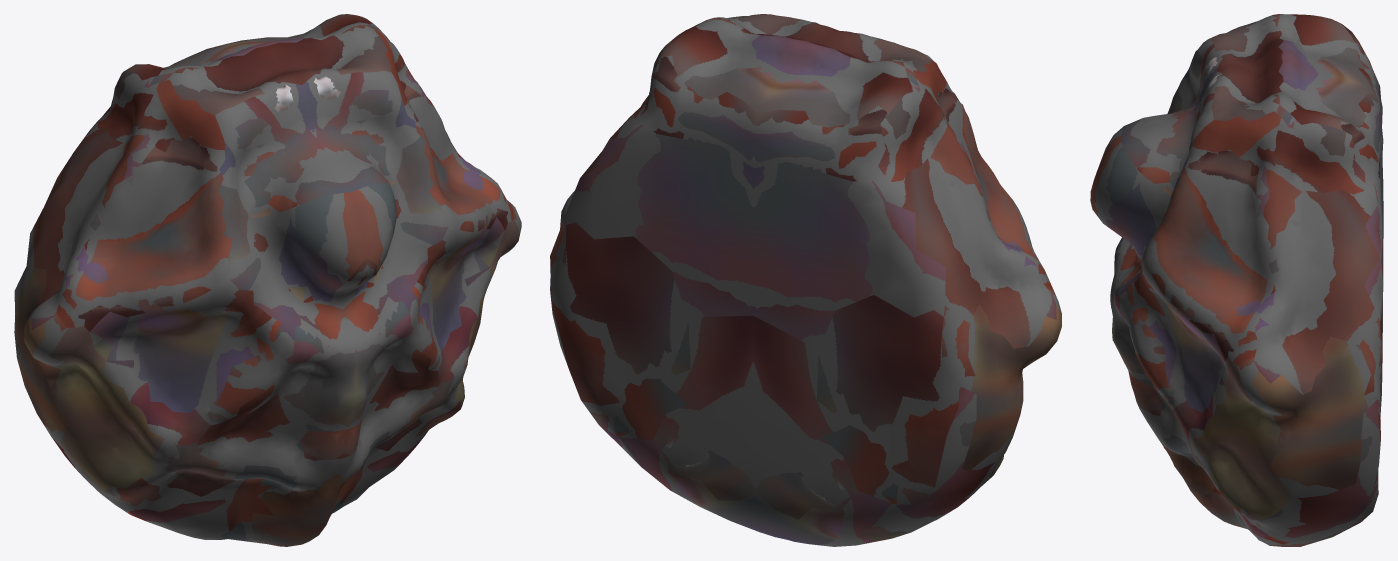
File: wallMine.obj
3 renders of one model, left to right at view 1: azimuth 30°, elevation 25°; view 2: azimuth 150°, elevation 25°; view 3: azimuth 270°, elevation 25°, orthographic. The views are drawn at different scales.
Parts seen in each view (by area): view 1: wallMine; view 2: wallMine; view 3: wallMine.
Part boxes in pixels (x1,y1,x2,y2): wallMine: [14, 14, 521, 546]; wallMine: [550, 14, 1061, 546]; wallMine: [1090, 14, 1383, 546].
Bounding box in the file's own units: 2.17 × 2.07 × 1.18.
